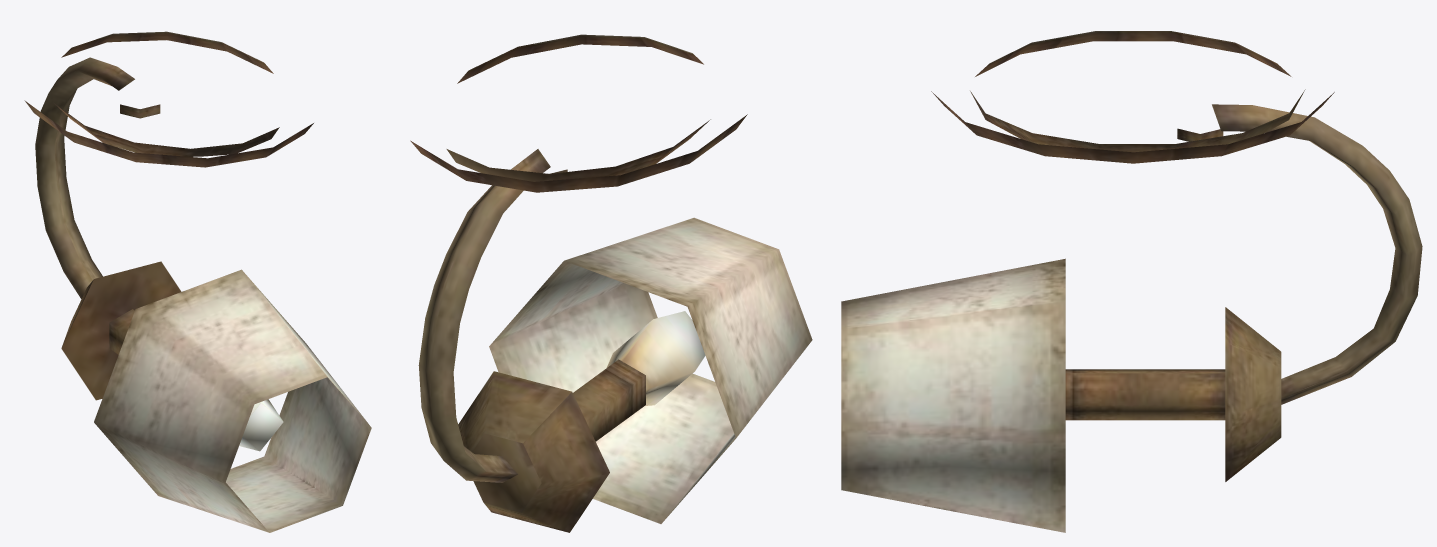
File: light_walllight_on.glb
3 renders of one model, left to right at view 1: azimuth 30°, elevation 25°; view 2: azimuth 150°, elevation 25°; view 3: azimuth 270°, elevation 25°, orthographic. The views are drawn at different scales.
Size of the model in its own units: 11.03 by 15.98 by 19.57.
2 materials, 2 textured.
